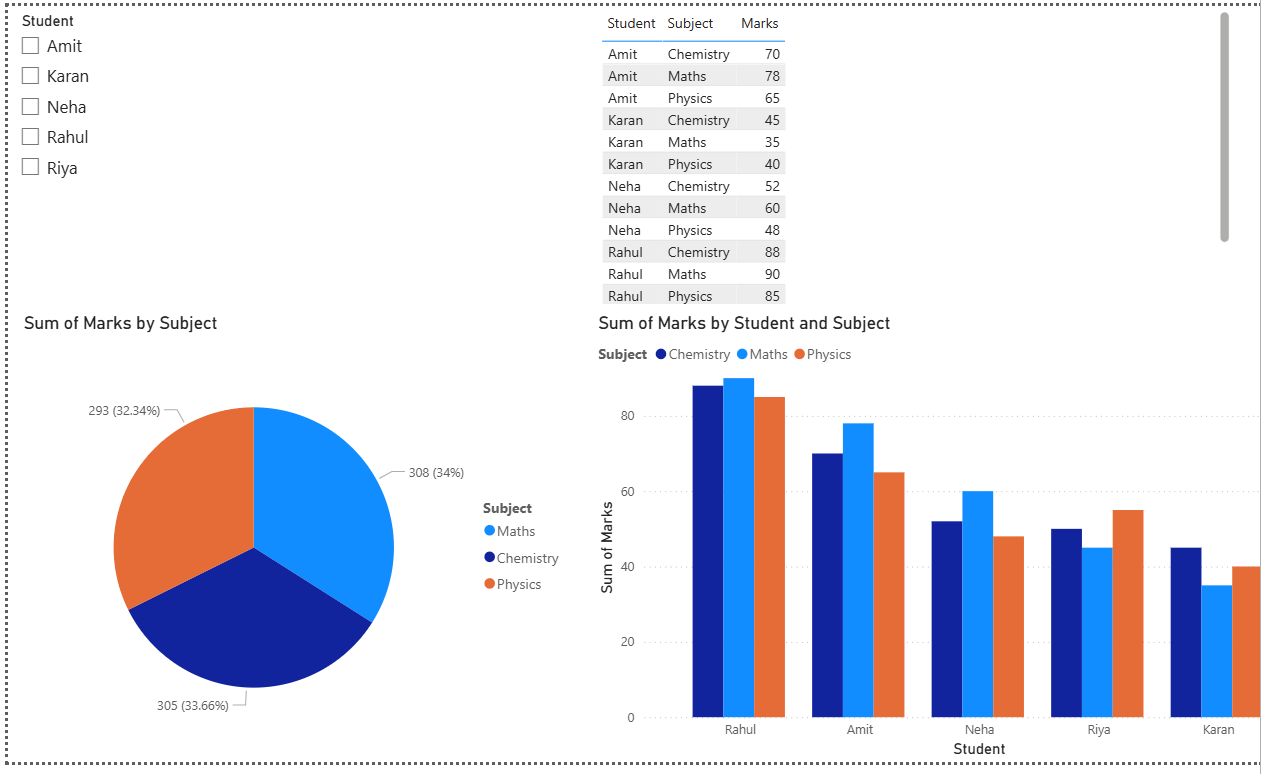

The page's visual inventory and layout, read from the dashboard file:
{"tool":"powerbi","page":{"name":"Page 3","canvas":[1280,720],"ordinal":2},"visuals":[{"type":"slicer","fields":{"Values":["StudentData.Student"]},"box":[0,0,460,291.4],"z":0},{"type":"pieChart","fields":{"Y":["Sum(StudentData.Marks)"],"Category":["StudentData.Subject"]},"box":[10.6,290.7,528.5,428.5],"z":1000},{"type":"lineClusteredColumnComboChart","fields":{"Category":["StudentData.Student"],"Y":["Sum(StudentData.Marks)"],"Series":["StudentData.Subject"]},"box":[557.1,291.4,691.4,428.6],"z":2000},{"type":"tableEx","fields":{"Values":["StudentData.Student","StudentData.Subject","StudentData.Marks"]},"box":[560,0,608,288],"z":3000}]}

Visuals, with their boxes on the page's 1280x720 design canvas (x1, y1, x2, y2). These are canvas units, not pixel positions in the 1261x774 screenshot, which may show the page scaled, cropped or inside an application window:
slicer - StudentData.Student: Rect(0, 0, 460, 291)
pieChart - Sum(StudentData.Marks) x StudentData.Subject: Rect(11, 291, 539, 719)
lineClusteredColumnComboChart - StudentData.Student x Sum(StudentData.Marks): Rect(557, 291, 1248, 720)
tableEx - StudentData.Student x StudentData.Subject: Rect(560, 0, 1168, 288)
